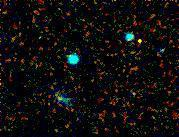star: (127, 27, 157, 57)
